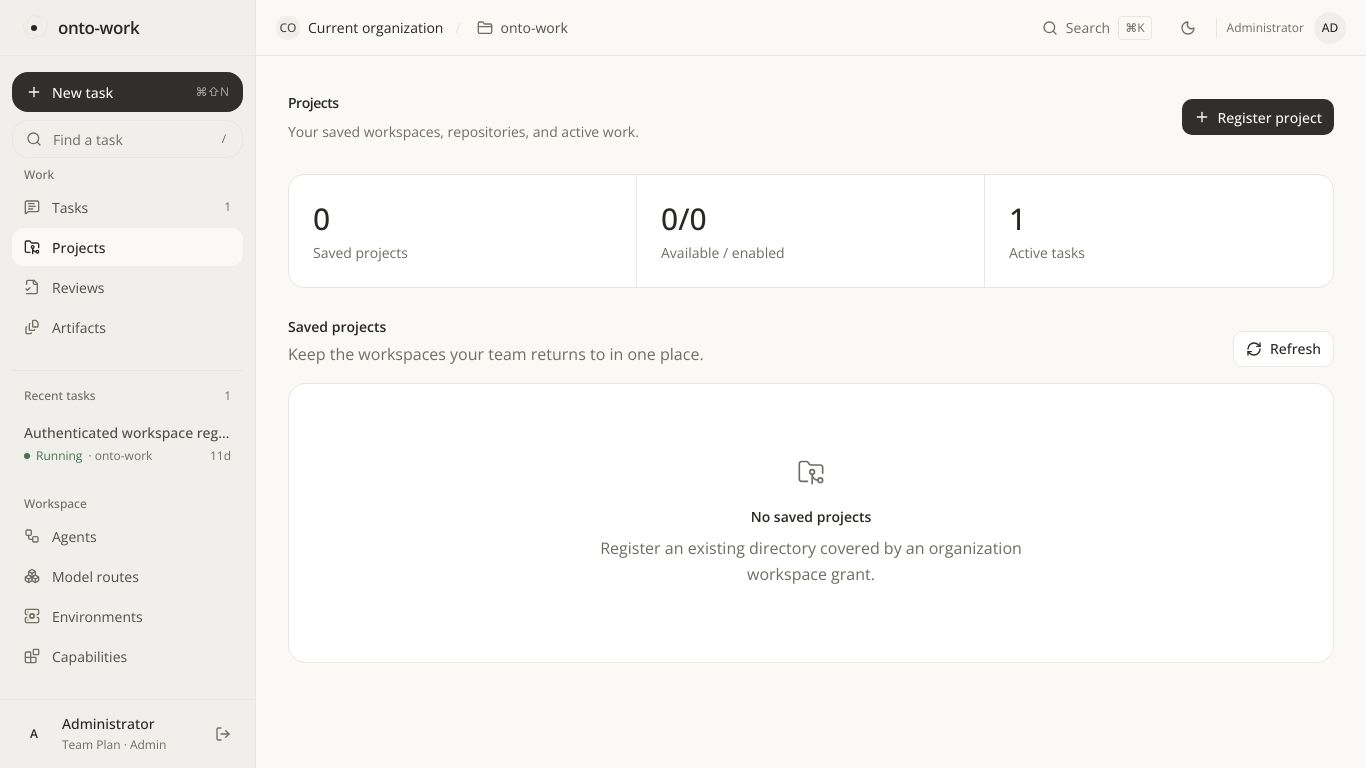
App › publishes a project mutation to the new-task selector and ignores the older project read
Expected: the heading "No saved projects" is shown, [751,506,871,528]
Click the button "Register project" at (1258, 117), box [1182,99,1334,135]
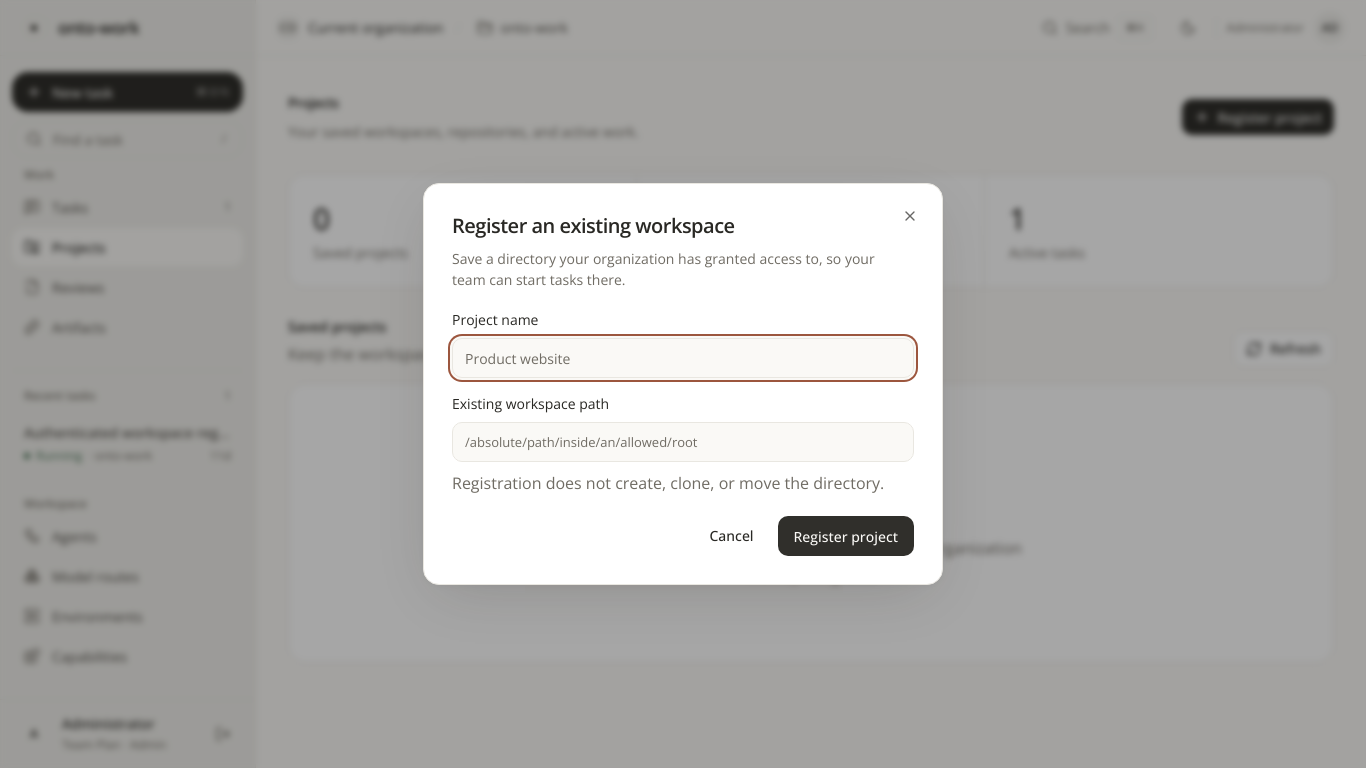
Type "Newly registered project" into the field labelled "Project name" at (683, 358), box [452,338,914,378]
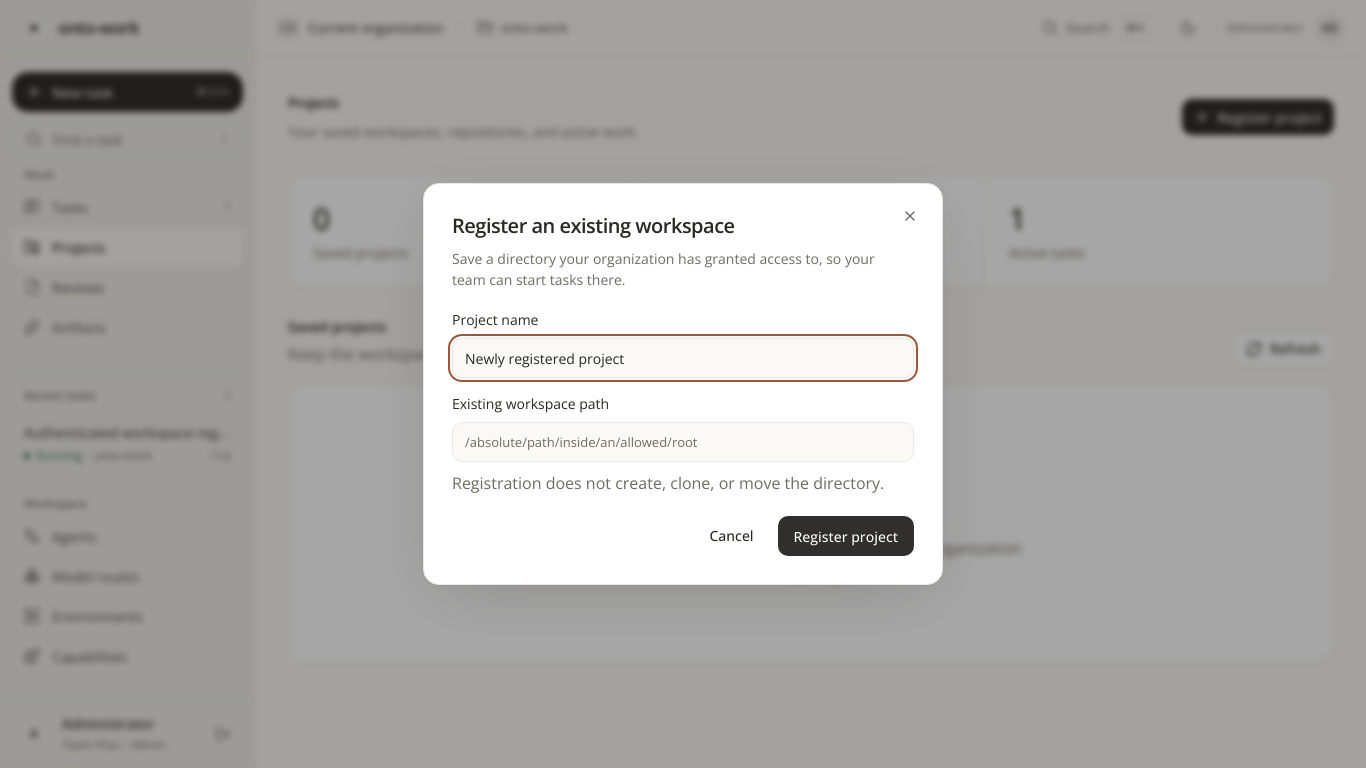
Type "/workspace/newly-registered" into the field labelled "Existing workspace path" at (683, 442), box [452,422,914,462]
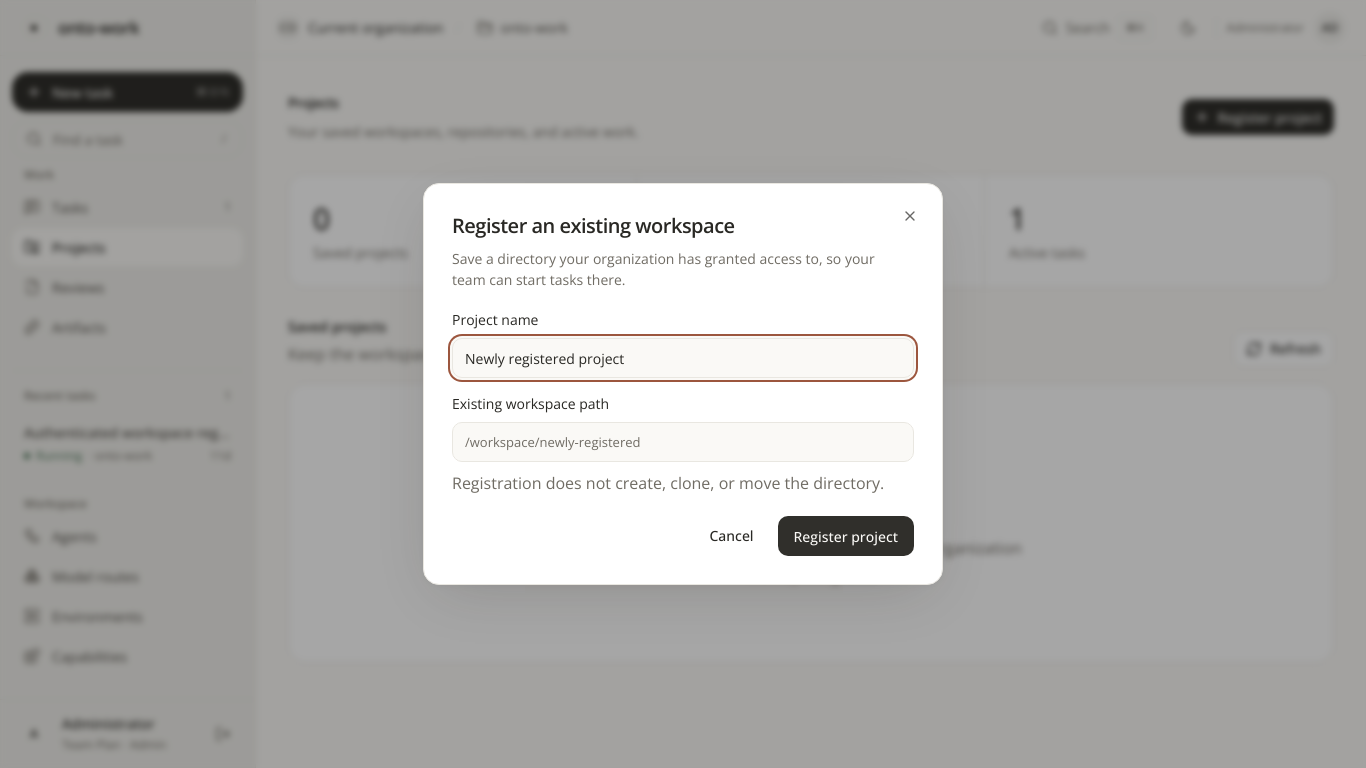
Click the button "Register project" at (846, 536), box [778,516,914,556]
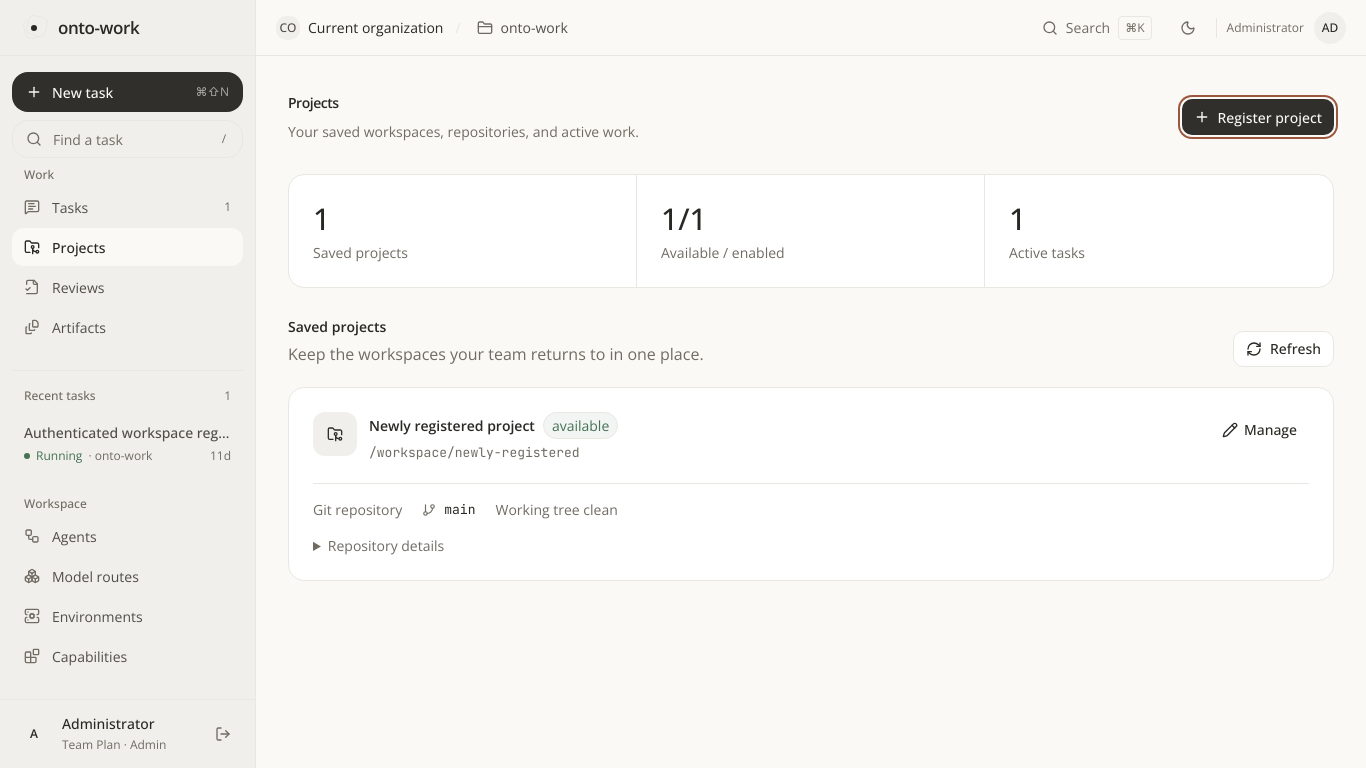
Expected: the text "/workspace/newly-registered" is shown, [369,444,580,461]
Press n
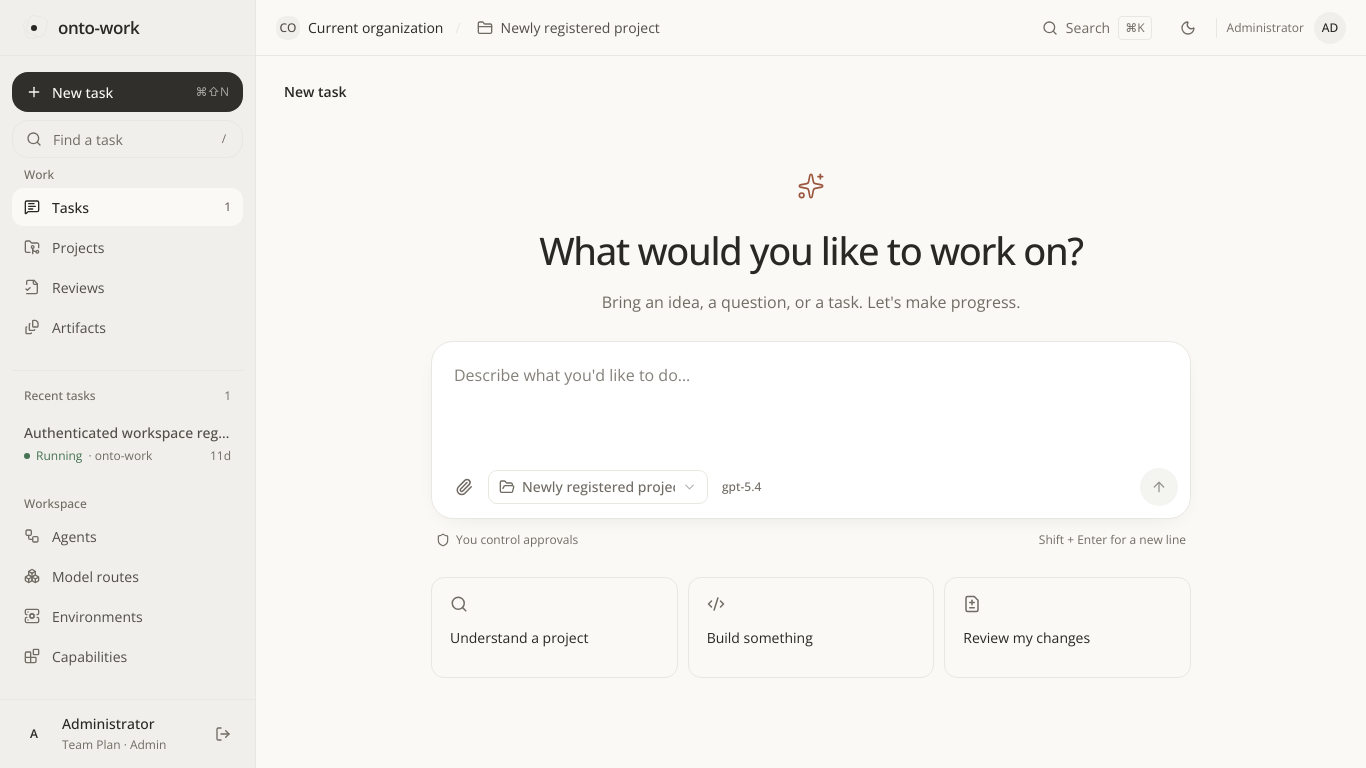
Expected: the heading "What would you like to work on?" is shown, [539,224,1083,276]
Expected: the dropdown named "Task project" reads "Newly registered project", [488,470,708,504]
